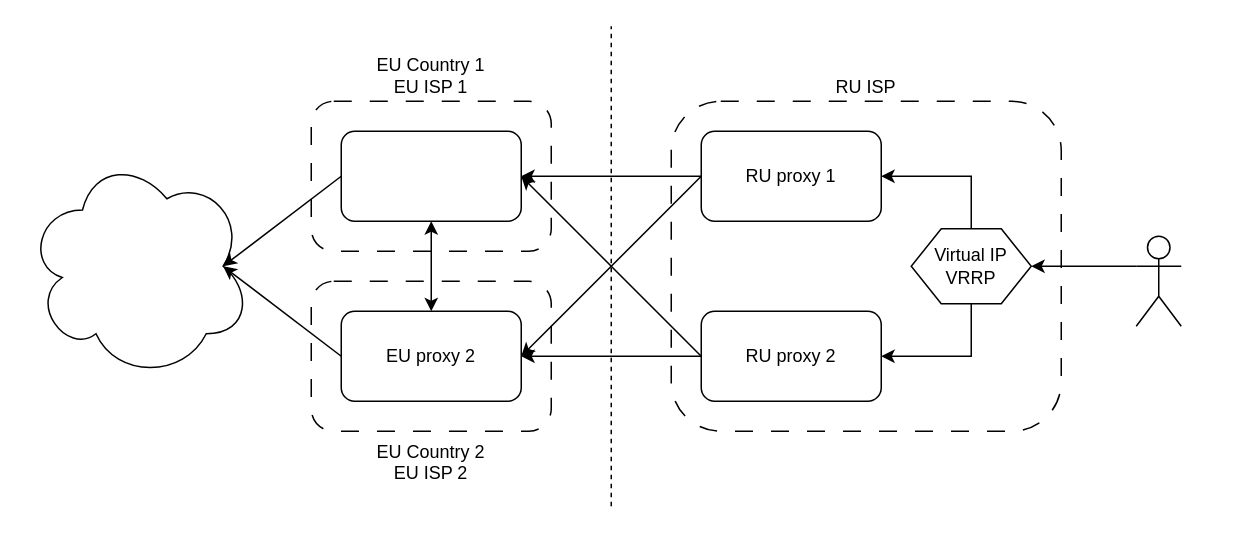
Image size: 1259x534. Some labels were removed from this diagram. Each missing label, with the centre of its shape:
"EU proxy 1" goes at pixel 430 175.
"Google Anthropic" goes at pixel 138 265.
"Login: UserUserov" goes at pixel 1158 280.
